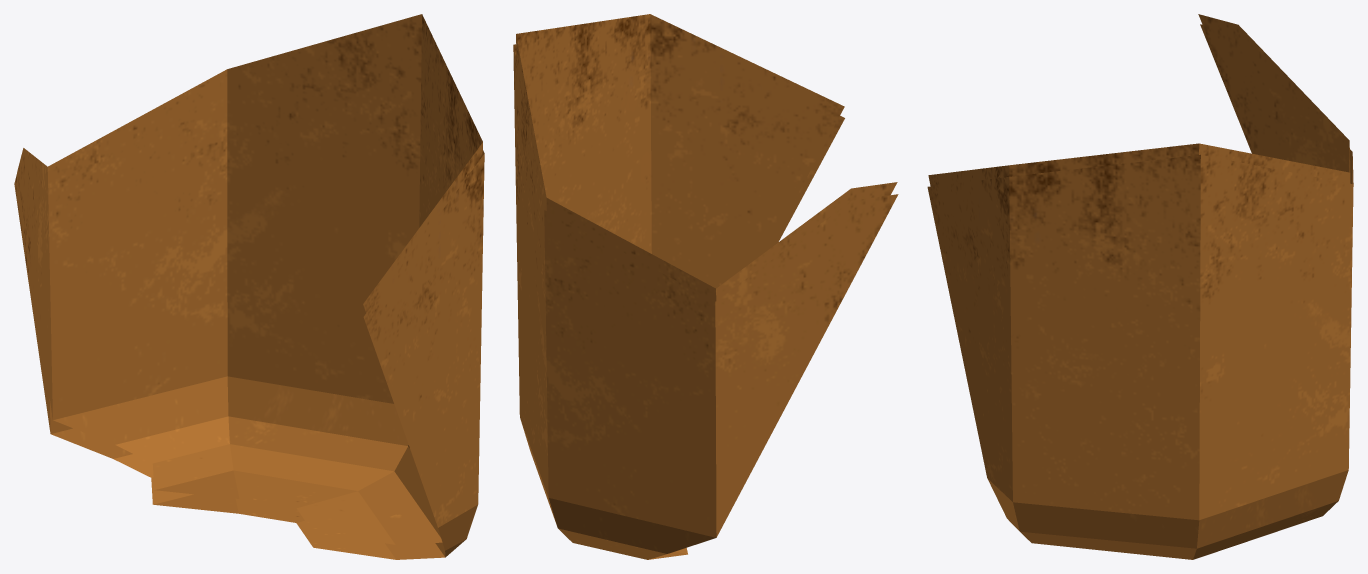
File: Bottle_02.FBX
The picture shows the model from 3 angles, left to right: view 1: azimuth 30°, elevation 25°; view 2: azimuth 150°, elevation 25°; view 3: azimuth 270°, elevation 25°; orthographic projection. The views are drawn at different scales.
Parts seen in each view (by area): view 1: Object010; view 2: Object010; view 3: Object010.
Boxes of the visible parts, box(x1,y1,x2,y2) form: Object010: box(14, 14, 484, 559); Object010: box(513, 14, 898, 559); Object010: box(927, 14, 1353, 559).
Size of the model in its own units: 88.1 by 96.15 by 85.26.
1 material, 1 textured.
